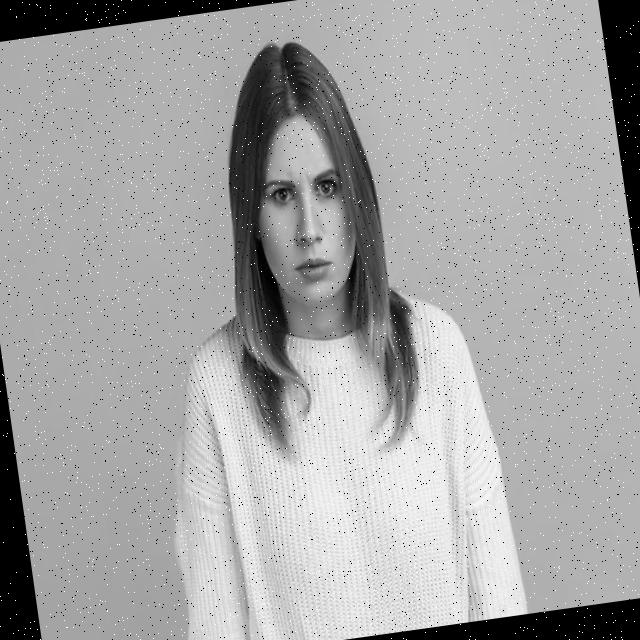Angry: (246, 112, 367, 312)
